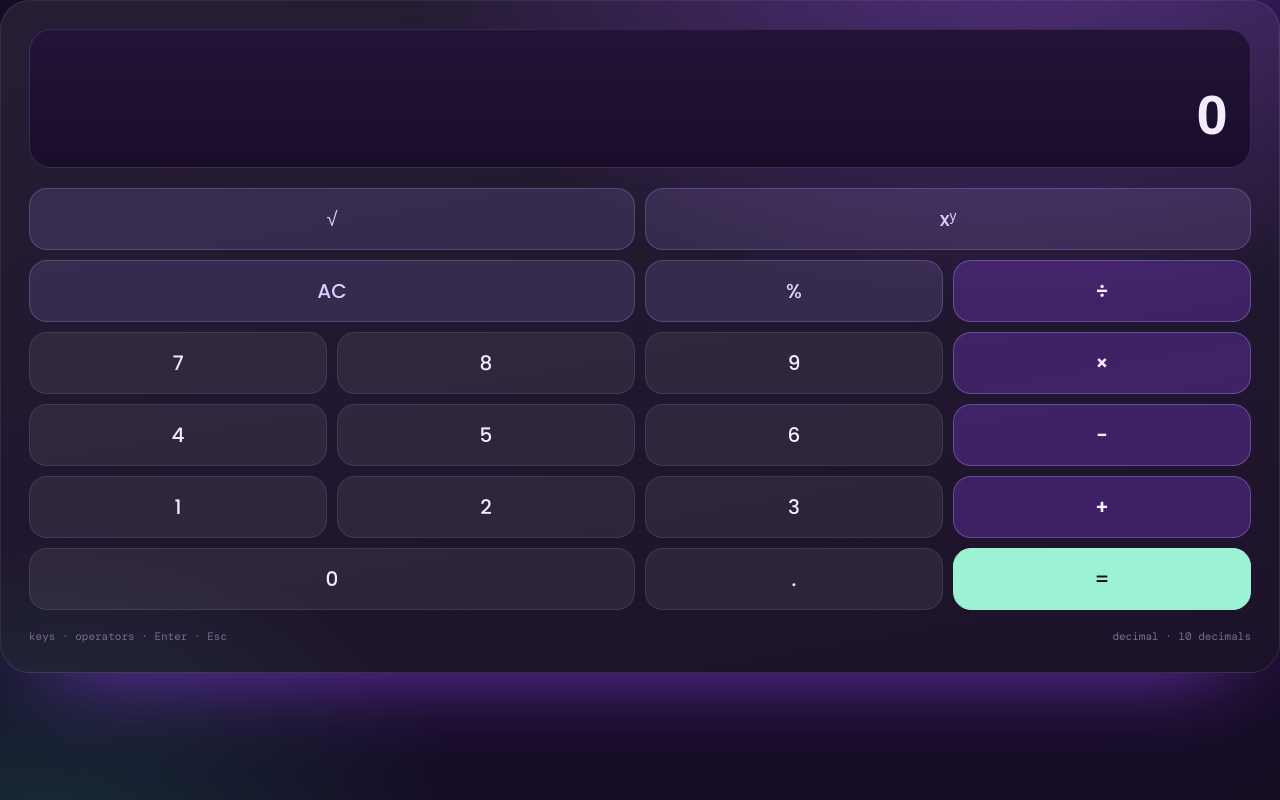
Scenario: Calculator › 12 + 3 = shows 15
Click the button "1".
click(178, 507)  # box [29,476,327,538]
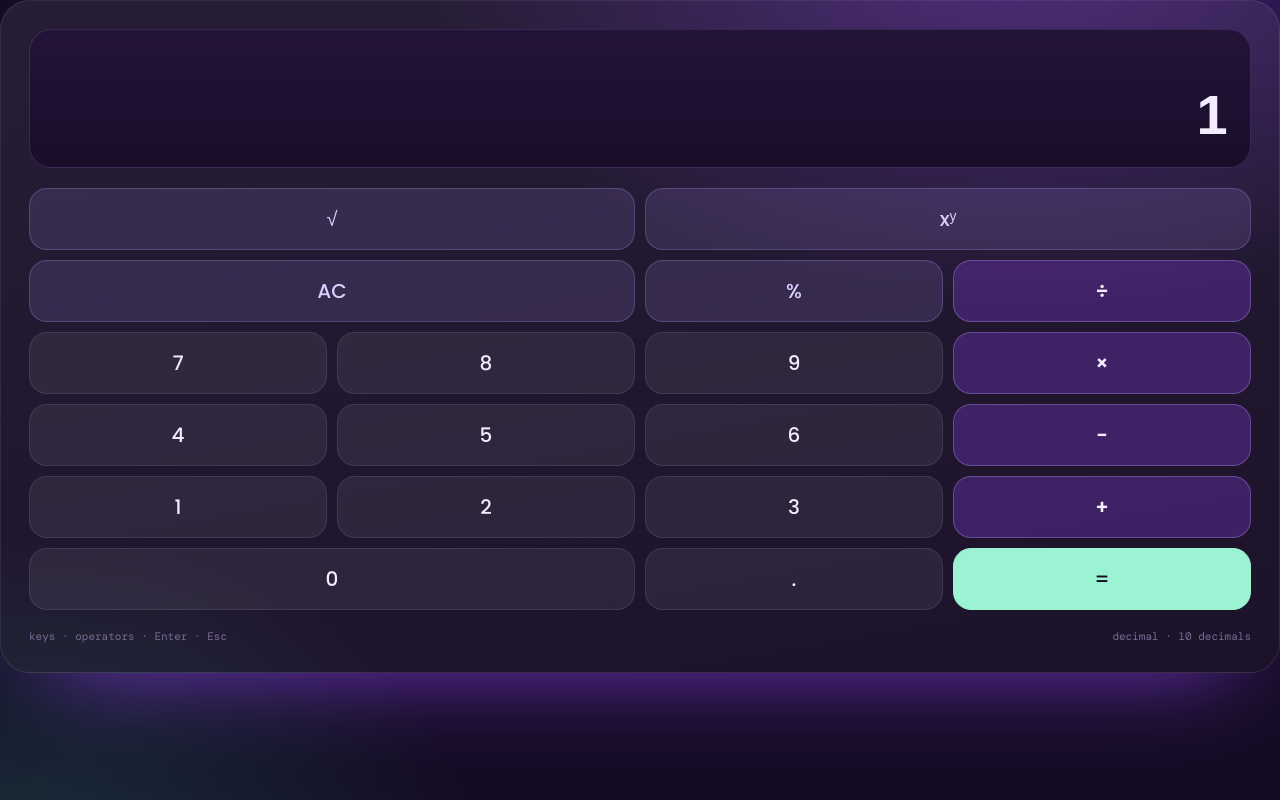
Click the button "2".
click(486, 507)  # box [337,476,635,538]
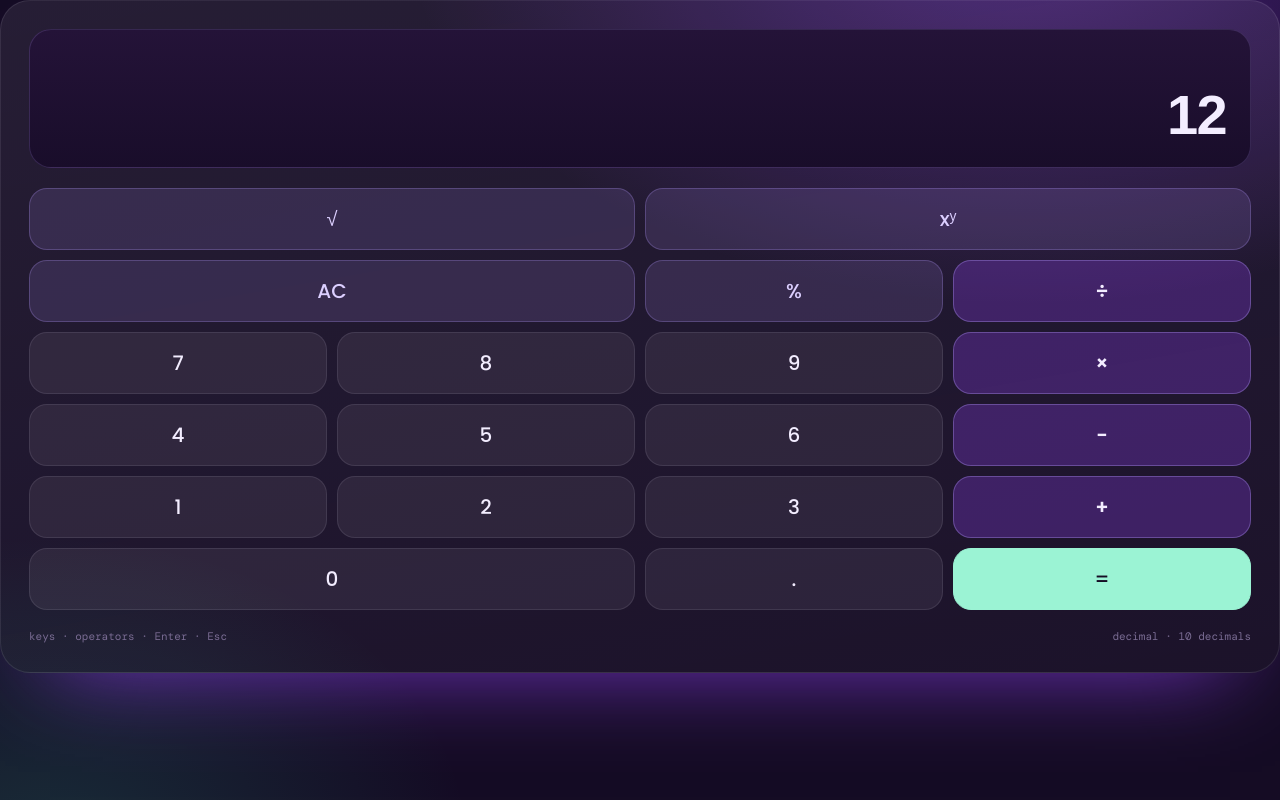
Click the button named "add".
click(1102, 507)  # box [953,476,1251,538]
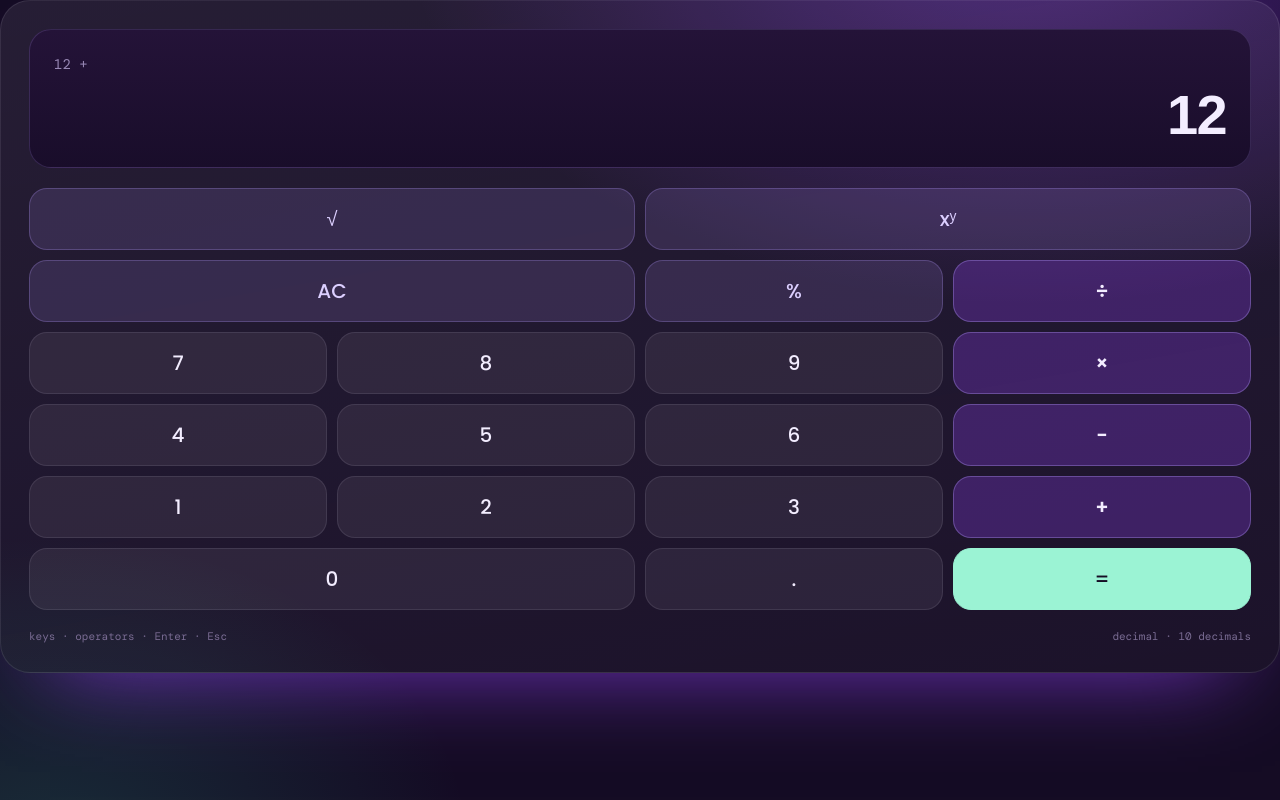
Click the button "3".
click(794, 507)  # box [645,476,943,538]
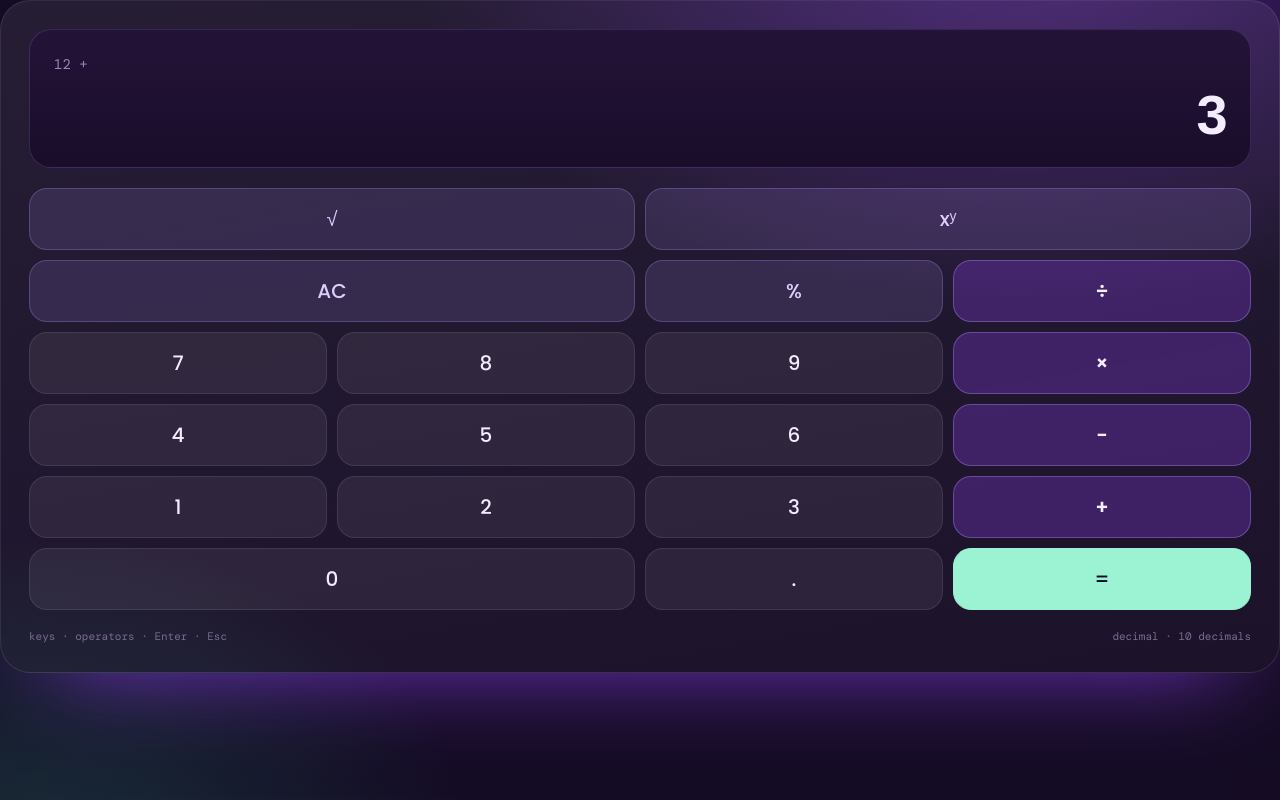
Click the button named "equals".
click(1102, 579)  # box [953,548,1251,610]
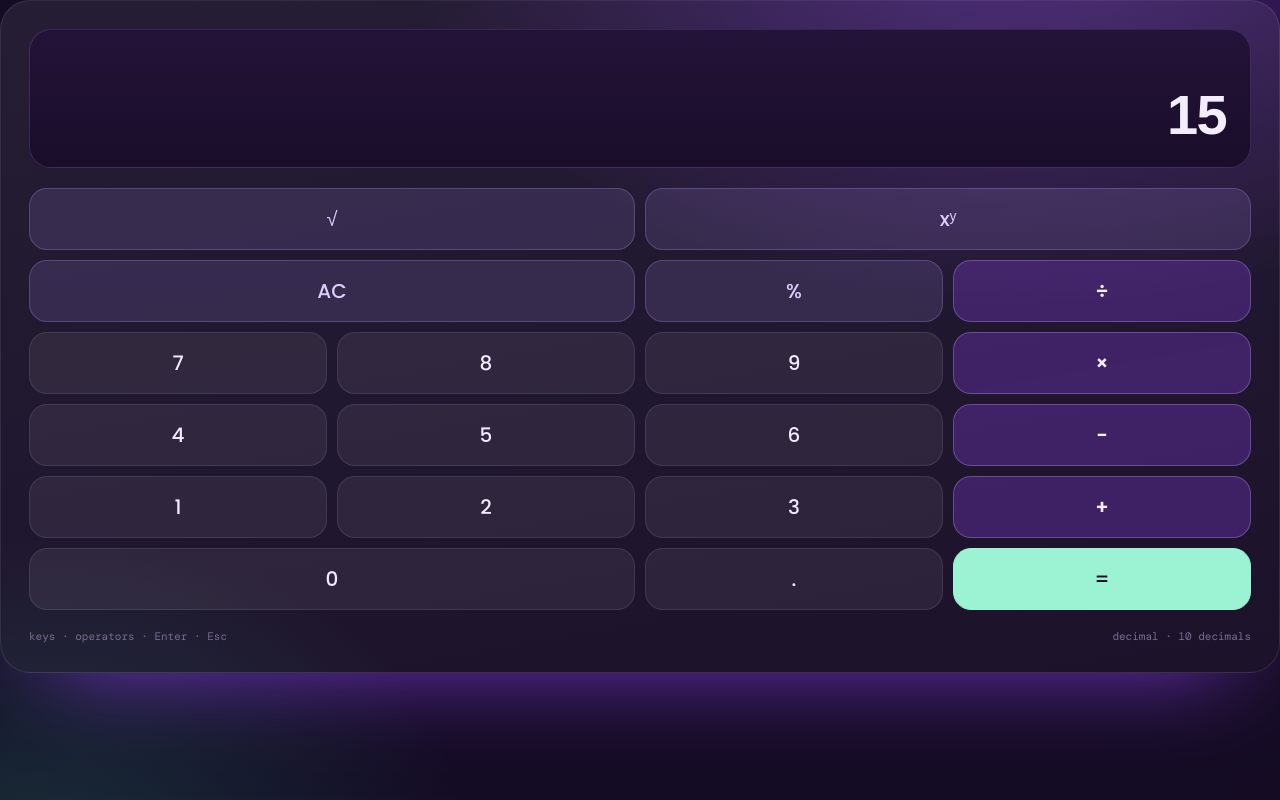
Check: the message reads "15", box [1167,83,1226,146]
